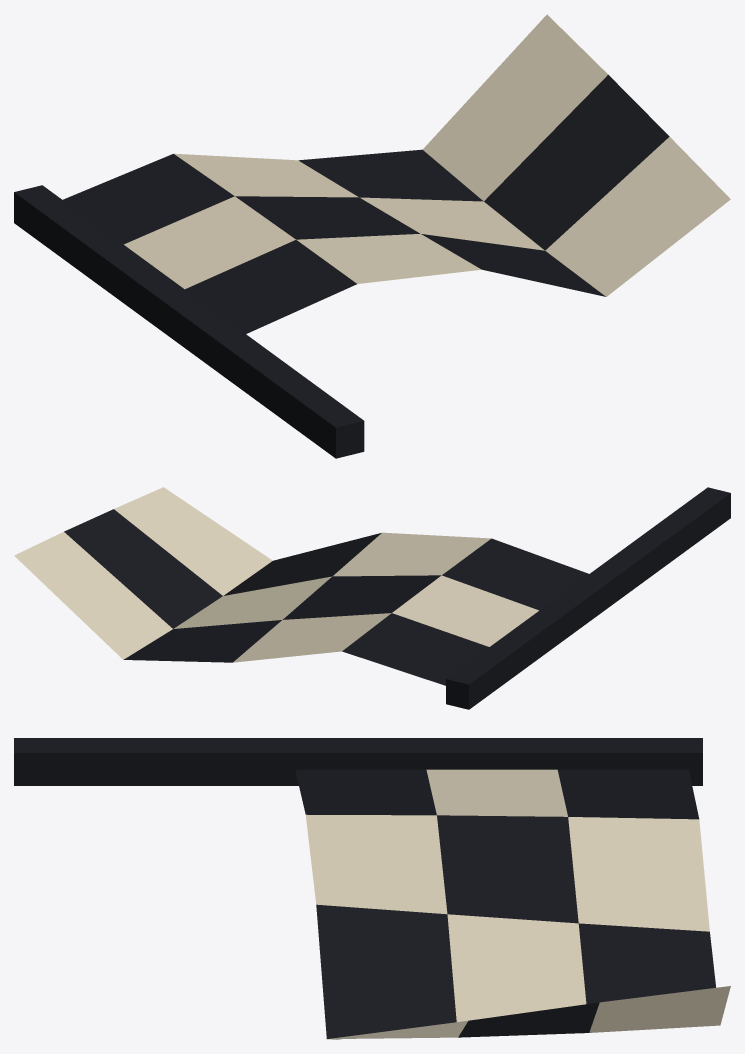
The model's file is racing_flag.fbx.
The picture shows the model from 3 angles, top to bottom: view 1: azimuth 30°, elevation 25°; view 2: azimuth 150°, elevation 25°; view 3: azimuth 270°, elevation 25°; orthographic projection. The views are drawn at different scales.
Visible parts, largest first — view 1: racing_flag; view 2: racing_flag; view 3: racing_flag.
Boxes of the visible parts, <box> form: racing_flag: <box>14,14,730,458</box>; racing_flag: <box>14,487,730,709</box>; racing_flag: <box>14,738,730,1039</box>.
Size of the model in its own units: 96 by 18.97 by 102.
